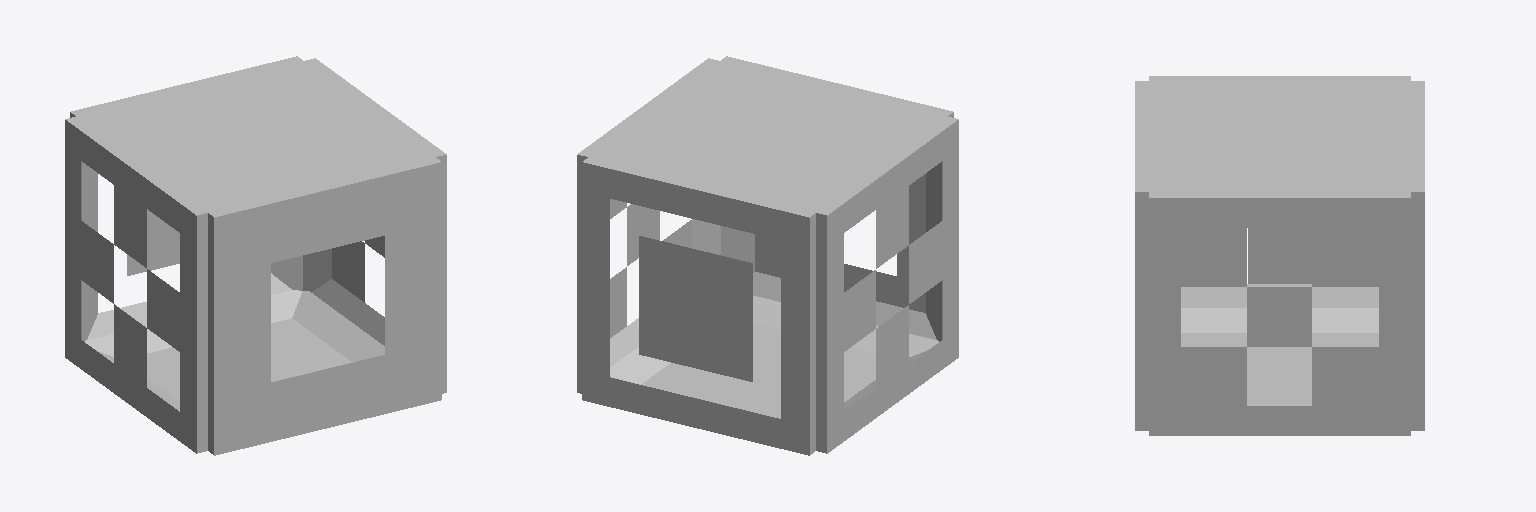
Rendered from StageEdit0108.obj.
The picture shows the model from 3 angles: view 1: azimuth 30°, elevation 25°; view 2: azimuth 150°, elevation 25°; view 3: azimuth 270°, elevation 25°; orthographic projection.
Parts seen in each view (by area): view 1: 立方体_立方体.013; view 2: 立方体_立方体.013; view 3: 立方体_立方体.013.
Part boxes in pixels (left/top/right/bottom): 立方体_立方体.013: left=65, top=56, right=446, bottom=455; 立方体_立方体.013: left=577, top=56, right=958, bottom=455; 立方体_立方体.013: left=1135, top=76, right=1424, bottom=435.
Size of the model in its own units: 44 by 40 by 44.